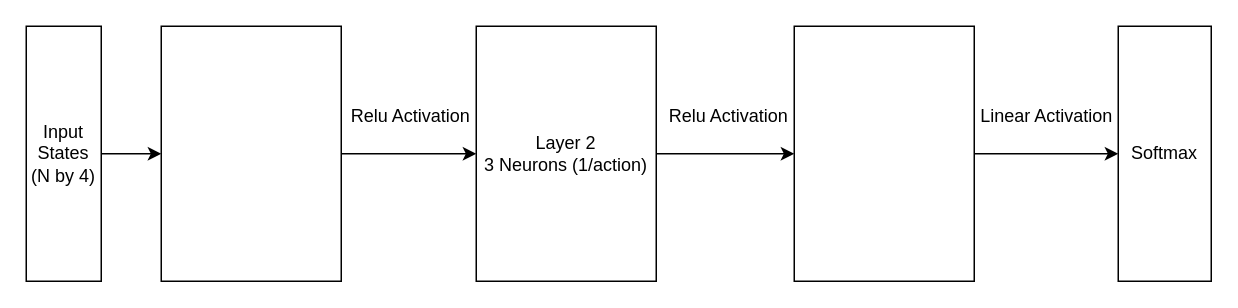
Image size: 1238x308. Some labels were removed from this diagram. Each missing label, with the box of its shape:
Layer 1 32 Neurons: (160, 25, 341, 281)
Layer 3 3 Neurons (1/action): (793, 25, 974, 281)
